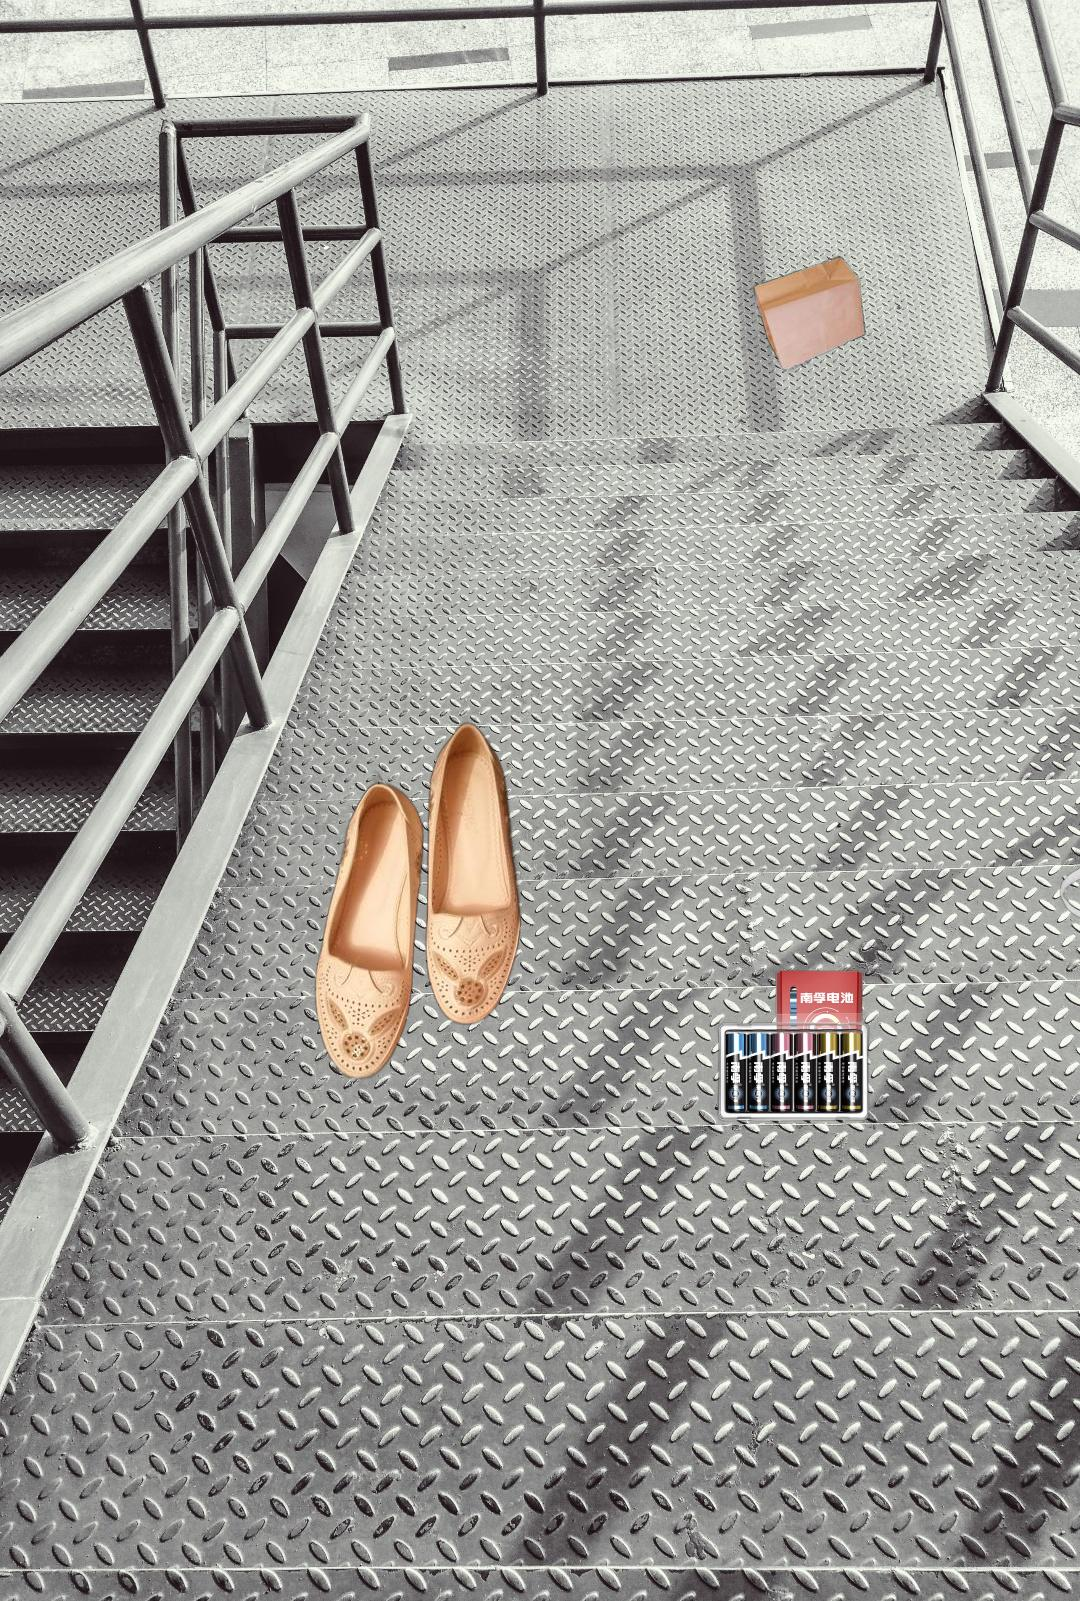battery: (715, 968, 873, 1124)
paper-bag: (742, 250, 868, 379)
shoes: (311, 665, 640, 1083)
trash: (1057, 800, 1080, 989)
